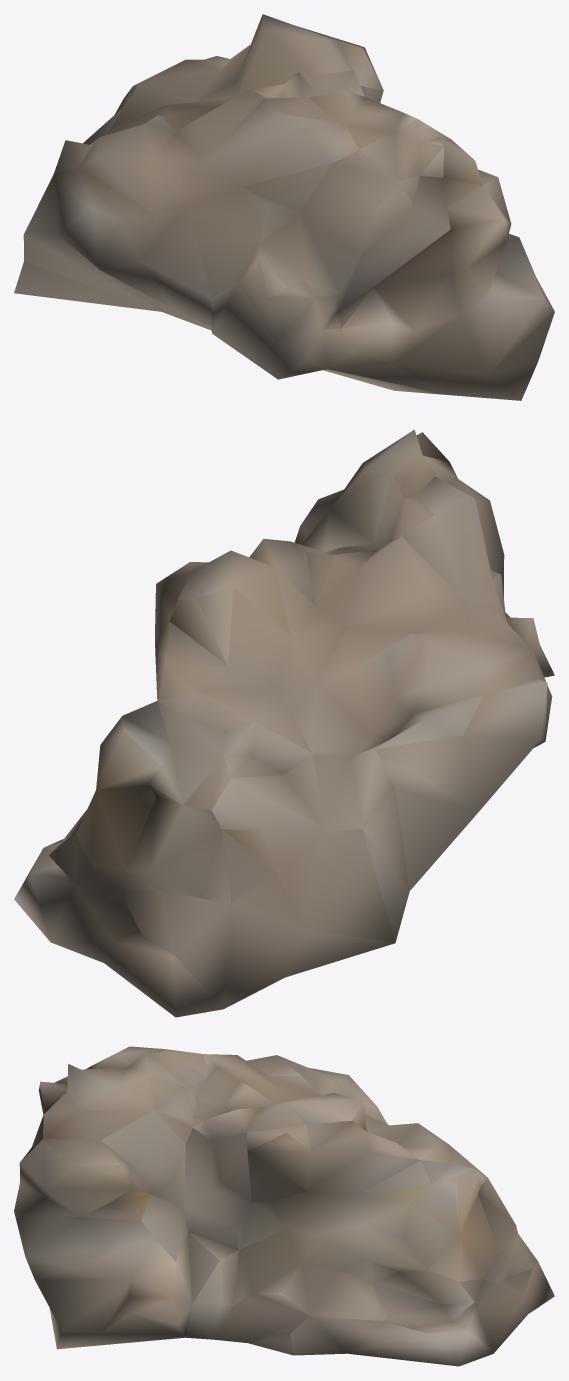
File: boulder.glb
The picture shows the model from 3 angles, top to bottom: view 1: azimuth 30°, elevation 25°; view 2: azimuth 150°, elevation 25°; view 3: azimuth 270°, elevation 25°; orthographic projection. The views are drawn at different scales.
Parts seen in each view (by area): view 1: boulder; view 2: boulder; view 3: boulder.
Part boxes in pixels (box(x1,y1,x2,y2)): boulder: box(14, 14, 554, 400); boulder: box(14, 429, 554, 1017); boulder: box(14, 1046, 554, 1366).
Size of the model in its own units: 1.26 by 0.9856 by 1.81.
